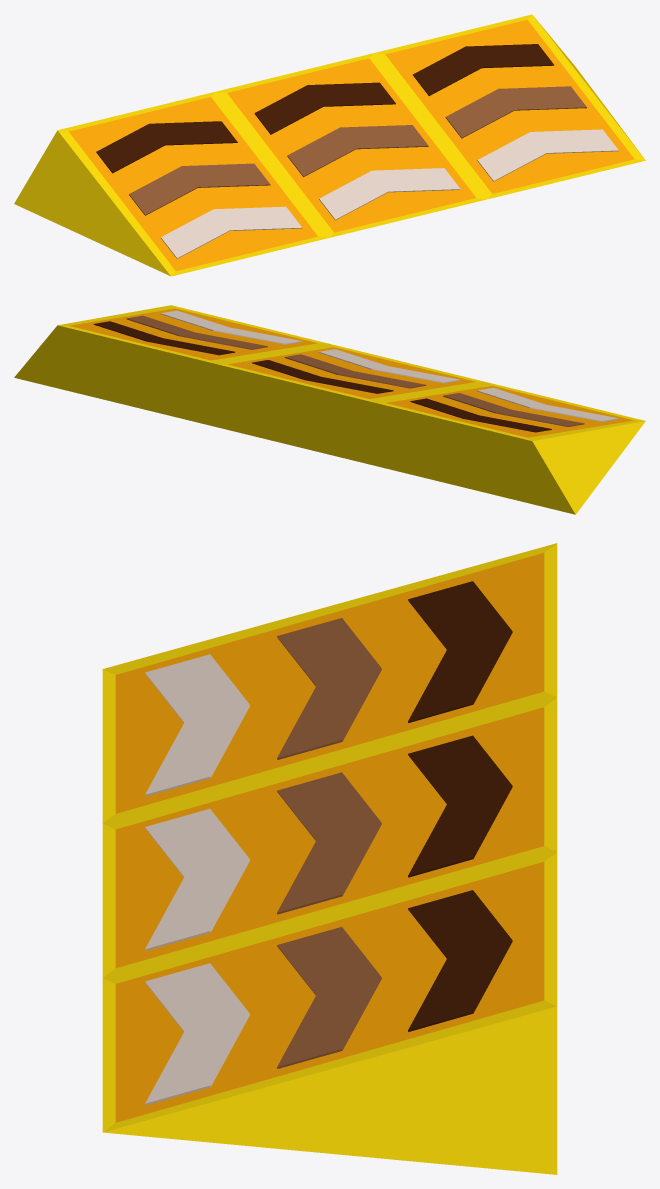
The model's file is ENV_Ramp_Pieces.fbx.
3 renders of one model, top to bottom at view 1: azimuth 30°, elevation 25°; view 2: azimuth 150°, elevation 25°; view 3: azimuth 270°, elevation 25°, orthographic. The views are drawn at different scales.
Visible parts, largest first — view 1: ENV_Ramp, ENV_Ramp.002, ENV_Ramp.001, ENV_Ramp.003; view 2: ENV_Ramp, ENV_Ramp.001, ENV_Ramp.002, ENV_Ramp.003; view 3: ENV_Ramp, ENV_Ramp.001, ENV_Ramp.002, ENV_Ramp.003.
Part boxes in pixels (x1=…): ENV_Ramp: x1=14, y1=14, x2=645, y2=276; ENV_Ramp.002: x1=129, y1=86, x2=586, y2=215; ENV_Ramp.001: x1=161, y1=129, x2=618, y2=258; ENV_Ramp.003: x1=96, y1=44, x2=554, y2=173; ENV_Ramp: x1=14, y1=305, x2=645, y2=514; ENV_Ramp.001: x1=160, y1=310, x2=618, y2=421; ENV_Ramp.002: x1=126, y1=315, x2=584, y2=426; ENV_Ramp.003: x1=93, y1=321, x2=551, y2=432; ENV_Ramp: x1=102, y1=543, x2=557, y2=1174; ENV_Ramp.001: x1=145, y1=654, x2=249, y2=1105; ENV_Ramp.002: x1=277, y1=618, x2=381, y2=1068; ENV_Ramp.003: x1=408, y1=581, x2=512, y2=1031.
Bounding box in the file's own units: 571 × 61.19 × 200.
